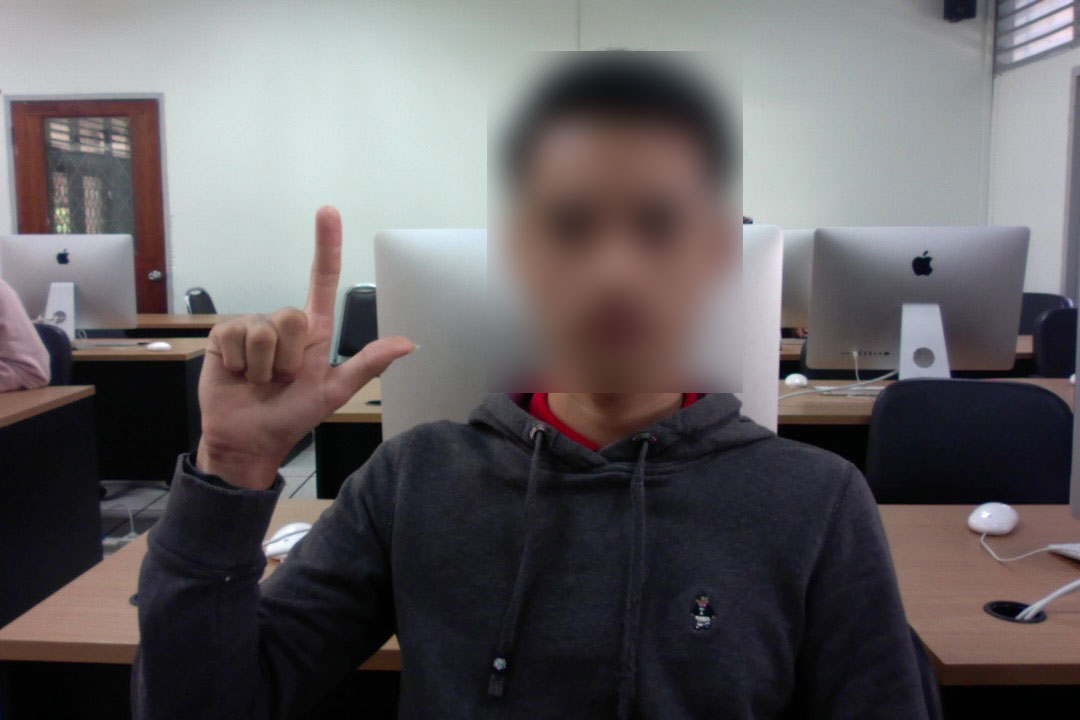lor: (177, 192, 421, 497)
